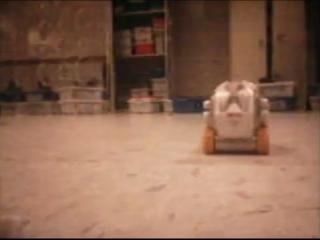cozmo: (201, 79, 271, 155)
